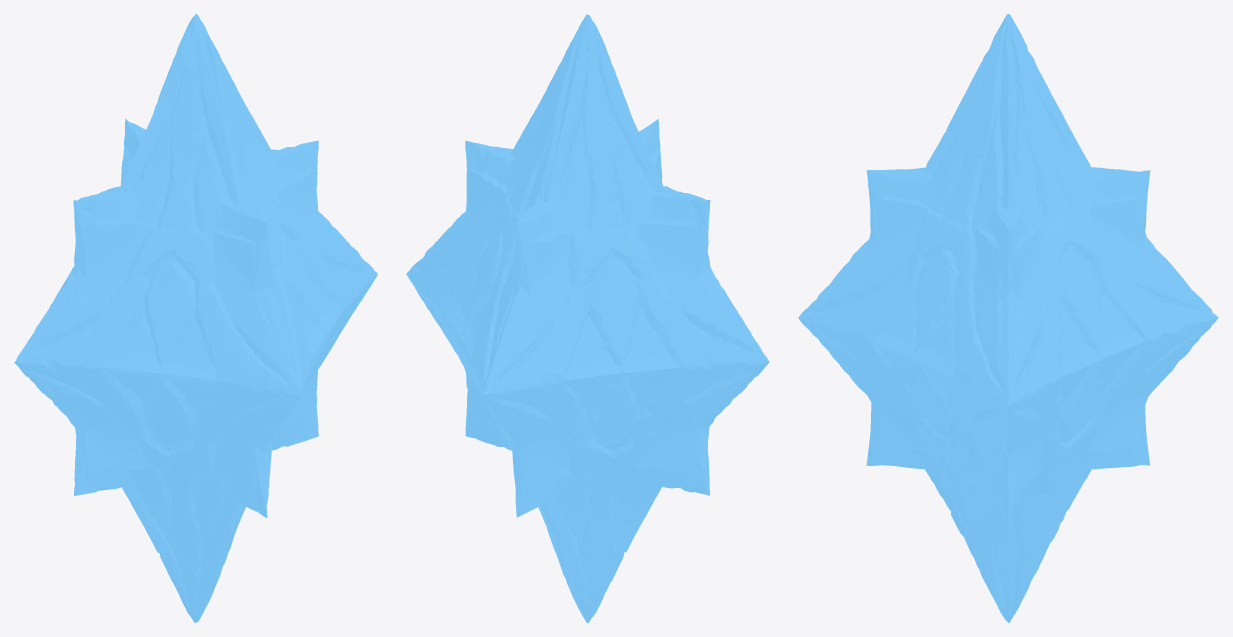
Rendered from temple_crystal_formation.glb.
The picture shows the model from 3 angles, left to right: view 1: azimuth 30°, elevation 25°; view 2: azimuth 150°, elevation 25°; view 3: azimuth 270°, elevation 25°; orthographic projection.
Visible parts, largest first — view 1: temple_crystal_formation; view 2: temple_crystal_formation; view 3: temple_crystal_formation.
Part boxes in pixels (x1,y1,x2,y2): temple_crystal_formation: [14, 14, 377, 622]; temple_crystal_formation: [406, 14, 769, 622]; temple_crystal_formation: [798, 14, 1218, 622].
Bounding box in the file's own units: 1.42 × 2.28 × 1.43.
